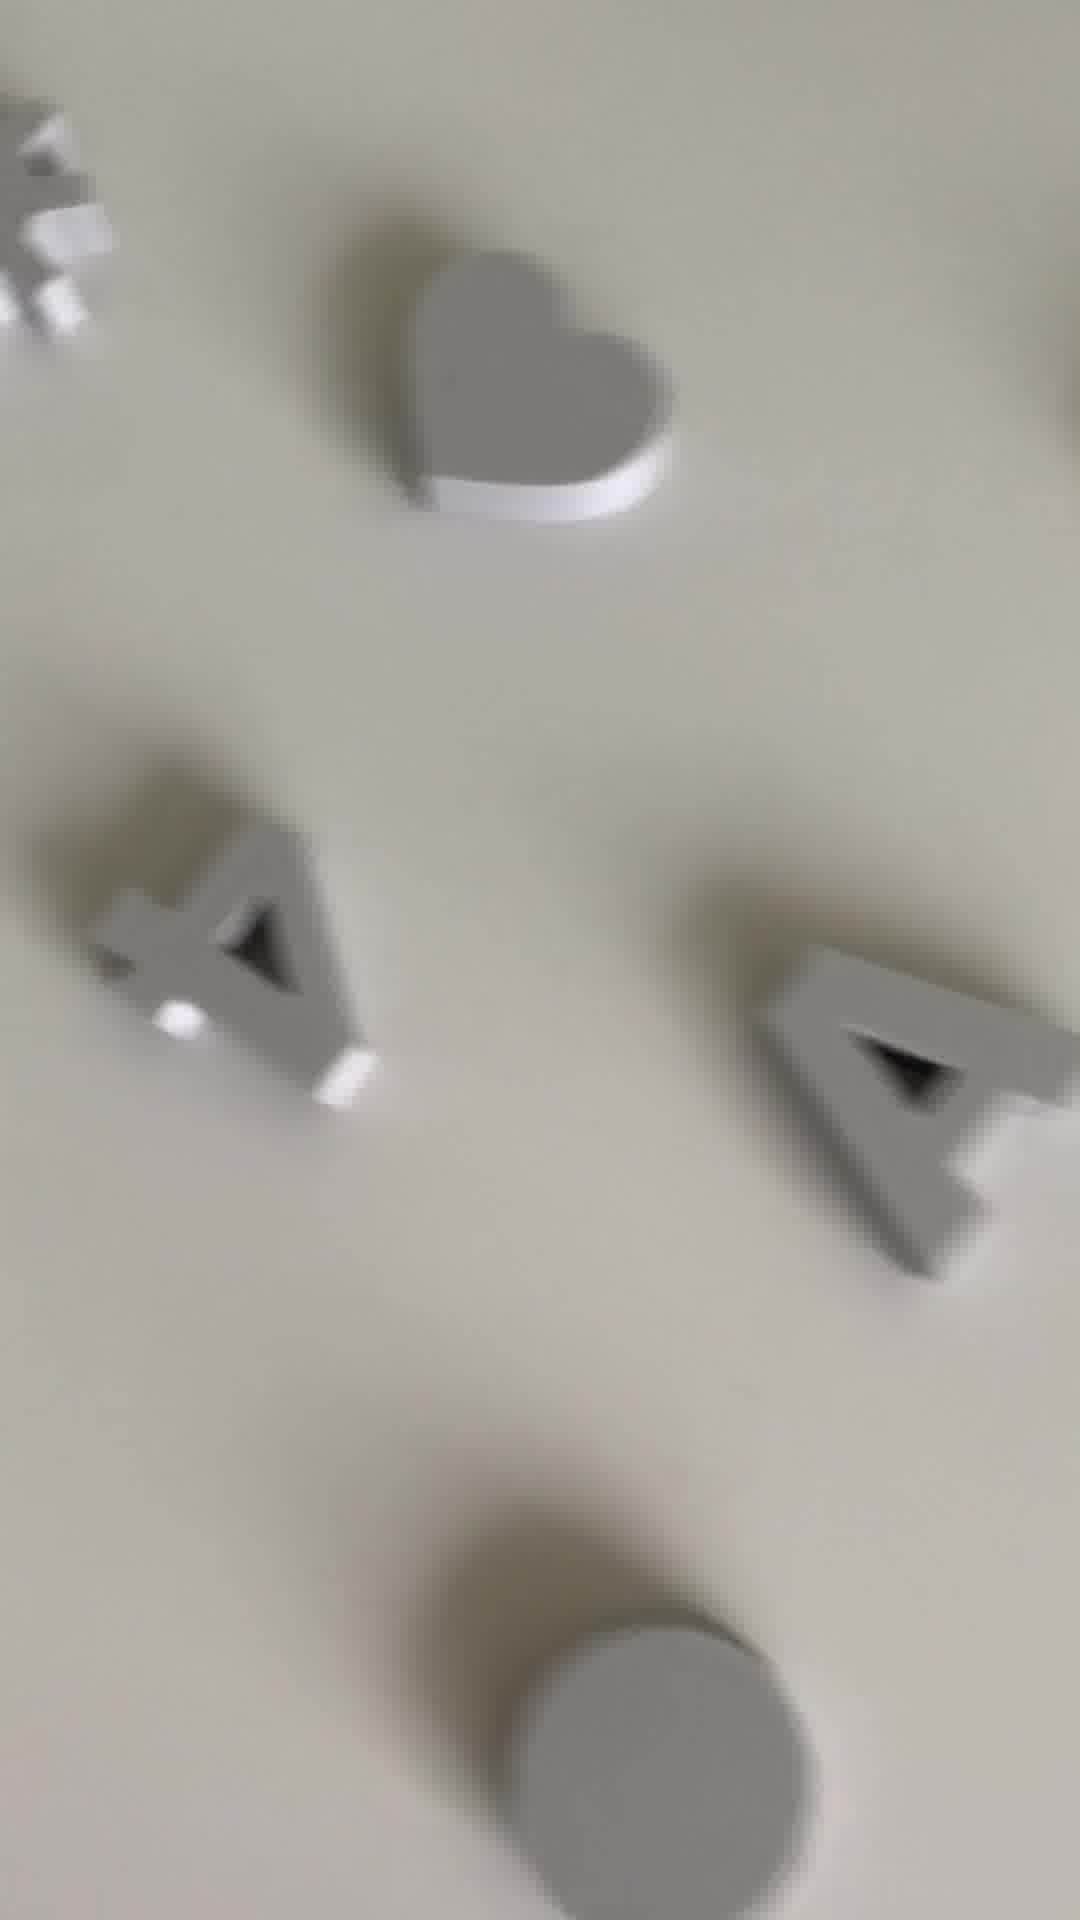Gray A-letter: (748, 935, 1077, 1315)
Gray circle: (492, 1604, 845, 1920)
Gray four: (69, 822, 349, 1134)
Gray gear: (1, 87, 117, 340)
Gray heart: (378, 244, 688, 538)
